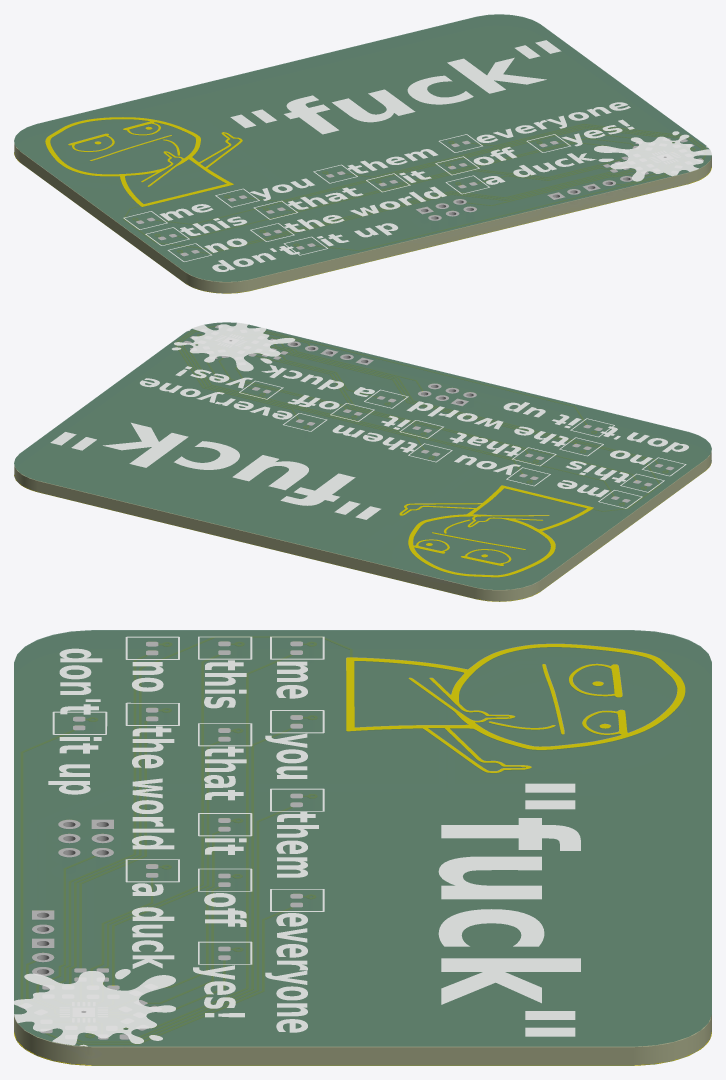
File: fuck-note-offensive-sao.glb
The picture shows the model from 3 angles, top to bottom: view 1: azimuth 30°, elevation 25°; view 2: azimuth 150°, elevation 25°; view 3: azimuth 270°, elevation 25°; orthographic projection. The views are drawn at different scales.
Parts seen in each view (by area): view 1: =>[0:1:1:7], =>[0:1:1:9], =>[0:1:1:5], =>[0:1:1:2]; view 2: =>[0:1:1:7], =>[0:1:1:9], =>[0:1:1:5], =>[0:1:1:2]; view 3: =>[0:1:1:7], =>[0:1:1:9], =>[0:1:1:5], =>[0:1:1:2].
Part boxes in pixels (x1,y1,x2,y2): =>[0:1:1:7]: [14, 14, 711, 293]; =>[0:1:1:9]: [14, 15, 711, 293]; =>[0:1:1:5]: [123, 40, 711, 271]; =>[0:1:1:2]: [14, 117, 711, 293]; =>[0:1:1:7]: [14, 322, 711, 601]; =>[0:1:1:9]: [14, 323, 711, 601]; =>[0:1:1:5]: [50, 322, 688, 519]; =>[0:1:1:2]: [14, 325, 711, 601]; =>[0:1:1:7]: [14, 630, 711, 1065]; =>[0:1:1:9]: [14, 631, 711, 1065]; =>[0:1:1:5]: [14, 636, 580, 1046]; =>[0:1:1:2]: [14, 638, 711, 1065].
Bounding box in the file's own units: 0.075 × 0.00166 × 0.0531.
Materials: 4 (4 with a texture image).
